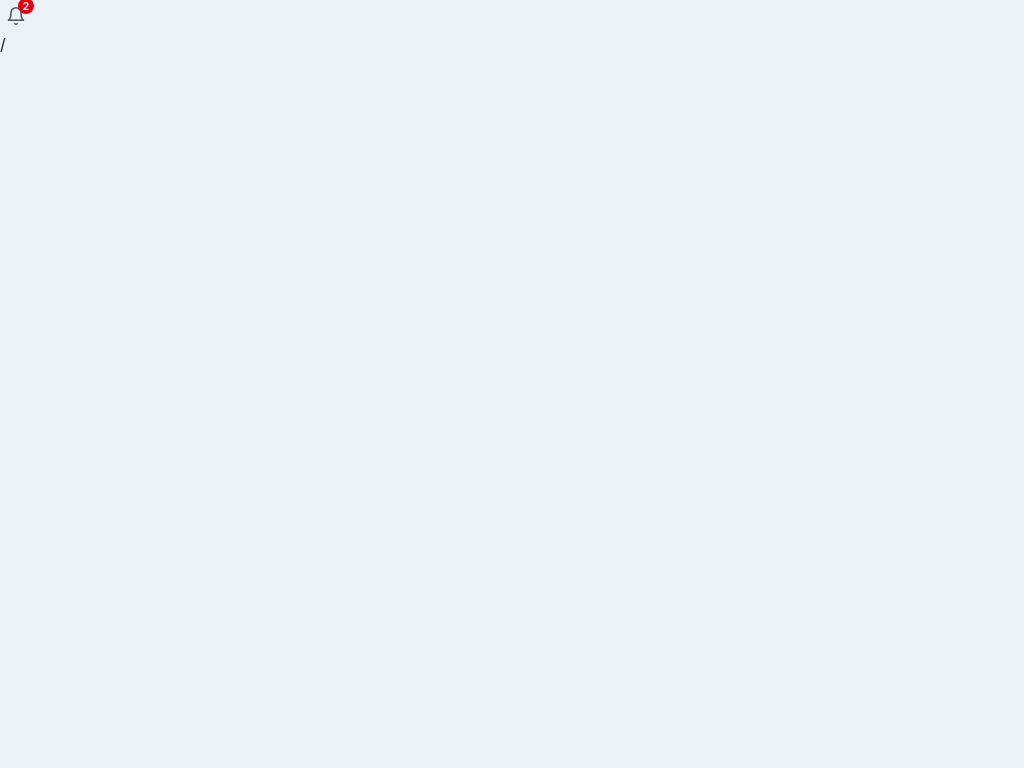
Test: NotificationBell › opening an unread notification marks it read and navigates to the item
Later steps or results of the test are not shown.
Click the button named "oxunmamış" at point(16, 16), box [0,0,32,32]
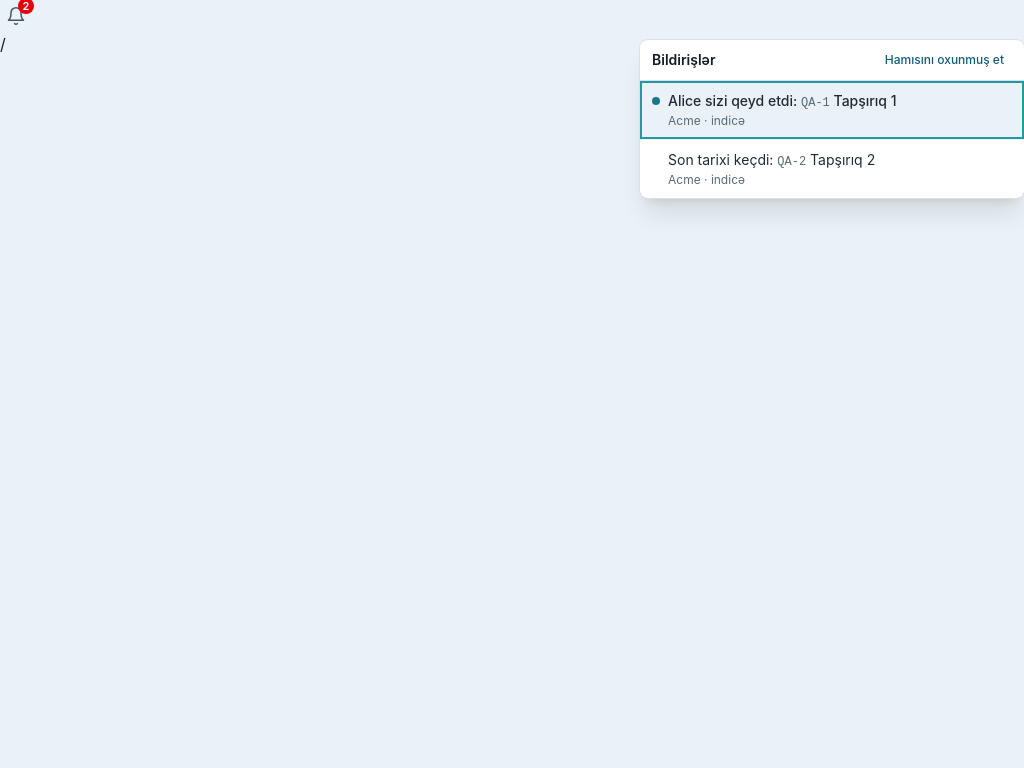
Click the link "Alice sizi qeyd etdi: QA-1 Tapşırıq 1 Acme · indicə" at point(832, 110), box [640,81,1023,139]
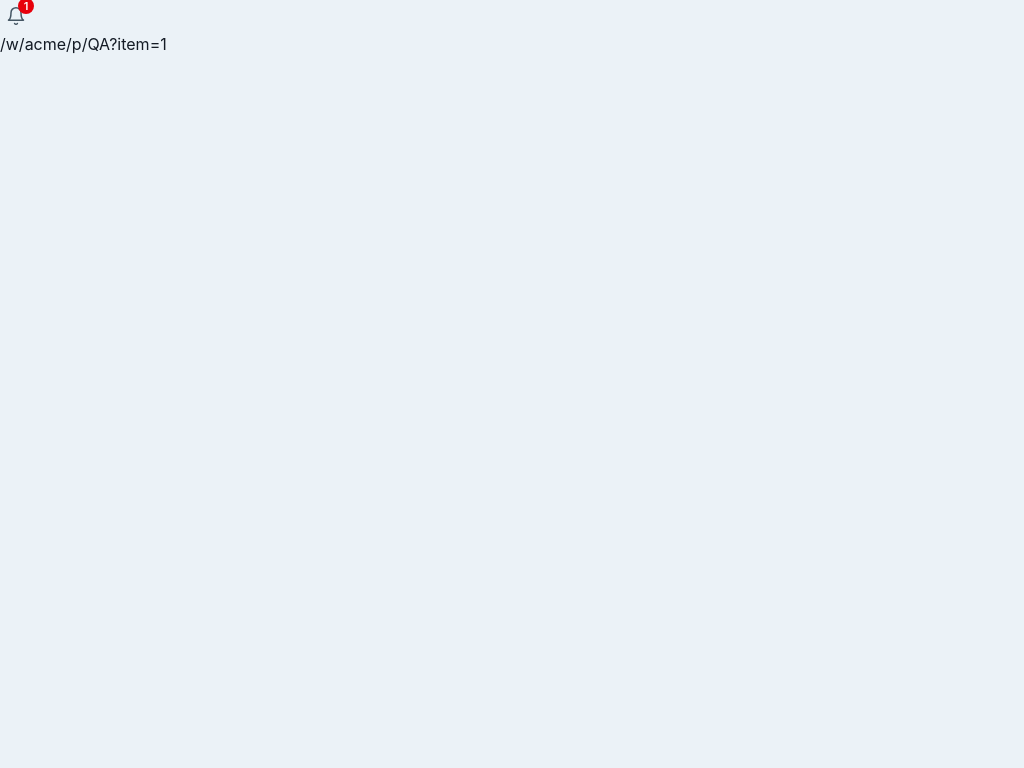
Expected: the text with test id "where" reads "/w/acme/p/QA?item=1", [0,34,167,54]
Expected: the dialog is gone
Expected: the button named "Bildirişlər, 1 oxunmamış" is shown, [0,0,32,32]
